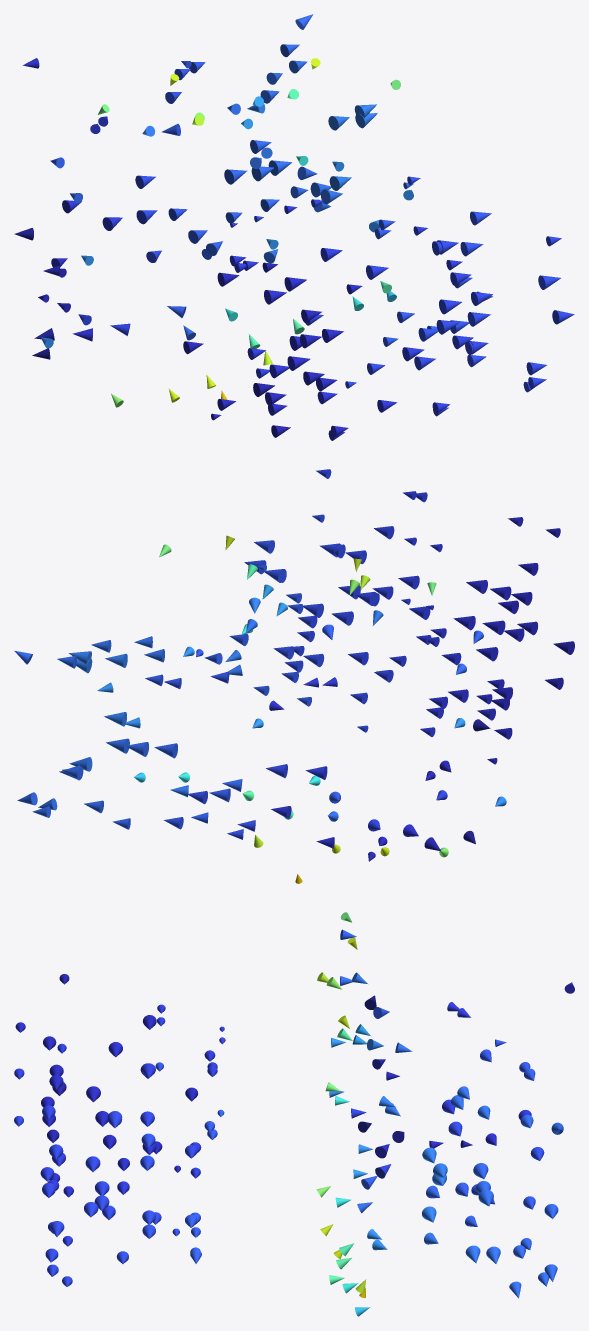
File: LineasCorrienteN2-H2O_mh2-1.38_V-1.1.glb
3 views of the same model, one above another, from view 1: azimuth 30°, elevation 25°; view 2: azimuth 150°, elevation 25°; view 3: azimuth 270°, elevation 25° (orthographic). The views are drawn at different scales.
Size of the model in its own units: 0.000972 by 0.000796 by 0.00121.
Materials: 2 (2 with a texture image).
